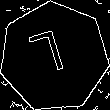L_S: (32, 29, 76, 85)
